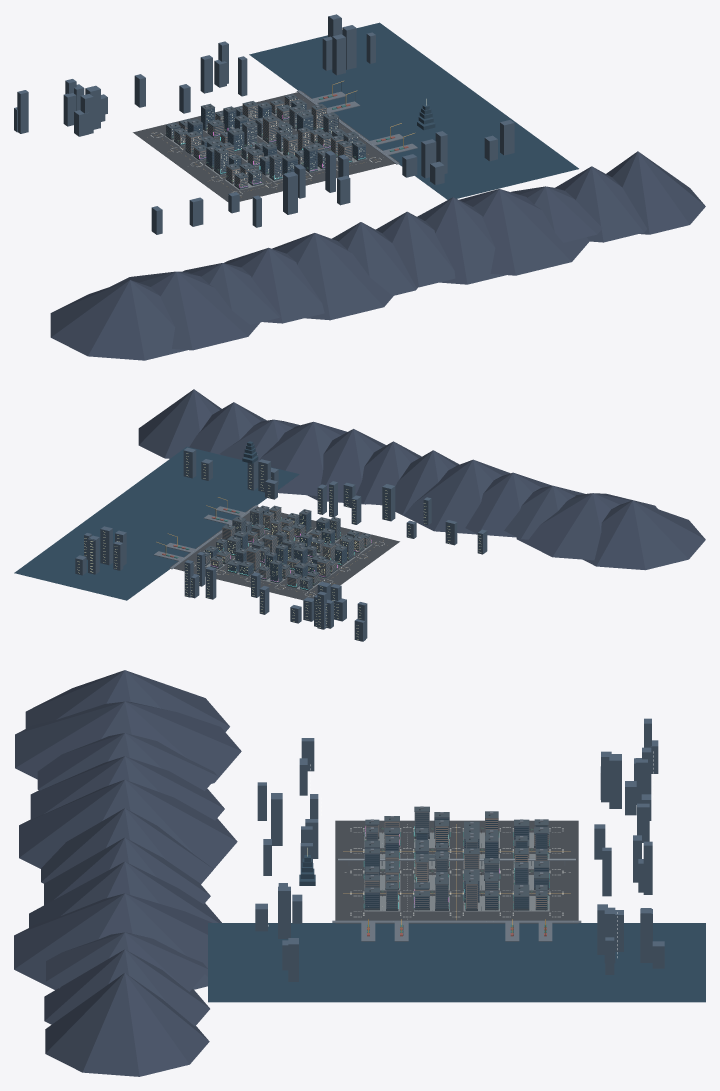
The model's file is harbor-city.glb.
3 views of the same model, one above another, from view 1: azimuth 30°, elevation 25°; view 2: azimuth 150°, elevation 25°; view 3: azimuth 270°, elevation 25° (orthographic). The views are drawn at different scales.
Visible parts, largest first — view 1: City_3_0_Harbor water, City_-7_6_Coastal mountain, City_2_6_Coastal mountain, City_-3_6_Coastal mountain, City_-6_6_Coastal mountain, City_0_0_Asphalt, City_6_6_Coastal mountain, City_1_6_Coastal mountain, City_-4_6_Coastal mountain, City_5_6_Coastal mountain, City_0_6_Coastal mountain, City_-1_6_Coastal mountain (+10 smaller); view 2: City_3_0_Harbor water, City_-7_6_Coastal mountain, City_-6_6_Coastal mountain, City_-3_6_Coastal mountain, City_2_6_Coastal mountain, City_0_0_Asphalt, City_6_6_Coastal mountain, City_-4_6_Coastal mountain, City_1_6_Coastal mountain, City_0_6_Coastal mountain, City_5_6_Coastal mountain, City_-1_6_Coastal mountain (+13 smaller); view 3: City_3_0_Harbor water, City_0_0_Asphalt, City_6_6_Coastal mountain, City_-6_6_Coastal mountain, City_-3_6_Coastal mountain, City_2_6_Coastal mountain, City_-7_6_Coastal mountain, City_-4_6_Coastal mountain, City_-1_6_Coastal mountain, City_5_6_Coastal mountain, City_-5_6_Coastal mountain, City_1_6_Coastal mountain (+10 smaller).
Boxes of the visible parts, x1,y1,x2,y2 form: City_3_0_Harbor water: (249, 22, 578, 199); City_-7_6_Coastal mountain: (50, 280, 187, 360); City_2_6_Coastal mountain: (459, 189, 589, 275); City_-3_6_Coastal mountain: (272, 233, 393, 320); City_-6_6_Coastal mountain: (110, 271, 260, 350); City_0_0_Asphalt: (133, 91, 399, 201); City_6_6_Coastal mountain: (606, 151, 705, 234); City_1_6_Coastal mountain: (417, 197, 506, 284); City_-4_6_Coastal mountain: (224, 247, 324, 323); City_5_6_Coastal mountain: (555, 166, 646, 242); City_0_6_Coastal mountain: (375, 211, 455, 287); City_-1_6_Coastal mountain: (332, 222, 417, 295); City_3_0_Harbor water: (14, 446, 299, 600); City_-7_6_Coastal mountain: (583, 500, 705, 570); City_-6_6_Coastal mountain: (516, 493, 657, 560); City_-3_6_Coastal mountain: (403, 459, 510, 534); City_2_6_Coastal mountain: (260, 421, 346, 495); City_0_0_Asphalt: (169, 506, 399, 600); City_6_6_Coastal mountain: (138, 389, 221, 458); City_-4_6_Coastal mountain: (465, 472, 551, 537); City_1_6_Coastal mountain: (307, 429, 385, 504); City_0_6_Coastal mountain: (356, 441, 421, 505); City_5_6_Coastal mountain: (189, 402, 266, 454); City_-1_6_Coastal mountain: (395, 450, 459, 515); City_3_0_Harbor water: (208, 923, 705, 1002); City_0_0_Asphalt: (335, 820, 578, 923); City_6_6_Coastal mountain: (45, 973, 209, 1076); City_-6_6_Coastal mountain: (15, 701, 241, 783); City_-3_6_Coastal mountain: (19, 779, 237, 868); City_2_6_Coastal mountain: (14, 893, 212, 989); City_-7_6_Coastal mountain: (25, 670, 229, 731); City_-4_6_Coastal mountain: (30, 756, 224, 820); City_-1_6_Coastal mountain: (41, 808, 213, 883); City_5_6_Coastal mountain: (44, 949, 209, 1026); City_-5_6_Coastal mountain: (37, 733, 217, 790); City_1_6_Coastal mountain: (29, 861, 221, 927).
Size of the model in its own units: 1659 by 219 by 1250.
